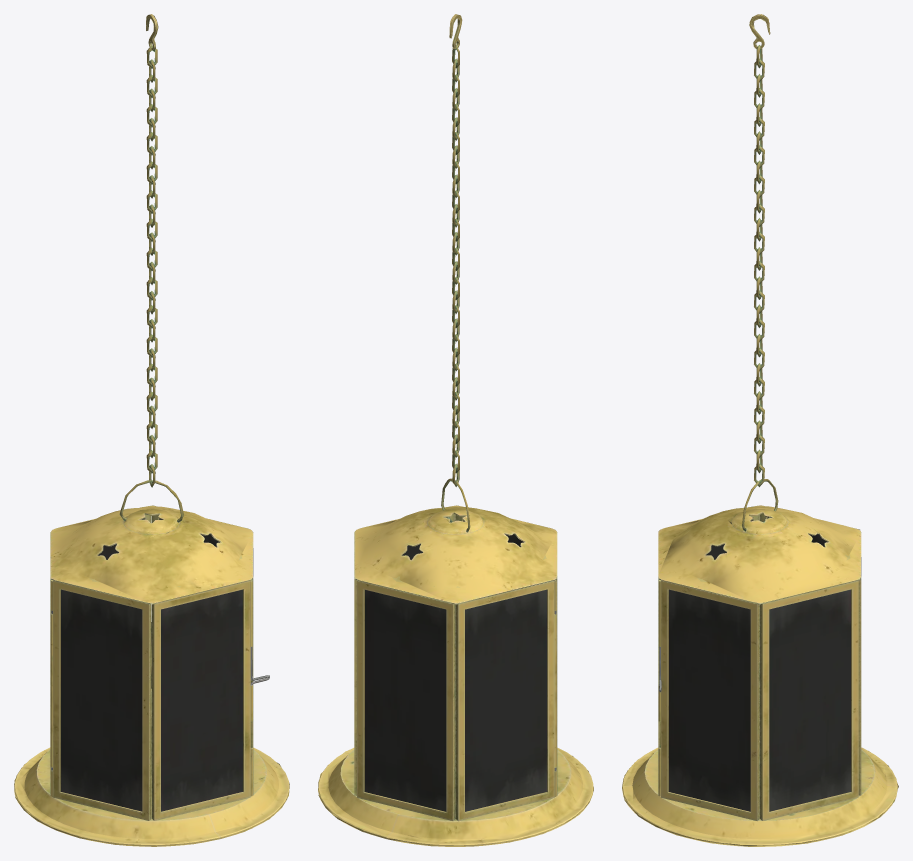
The model's file is ph_brass_diya_lantern_hi.glb.
3 views of the same model, side by side, from view 1: azimuth 30°, elevation 25°; view 2: azimuth 150°, elevation 25°; view 3: azimuth 270°, elevation 25° (orthographic).
Visible parts, largest first — view 1: brass_diya_lantern; view 2: brass_diya_lantern; view 3: brass_diya_lantern.
Part boxes in pixels (x1,y1,x2,y2): brass_diya_lantern: (14, 14, 289, 846); brass_diya_lantern: (318, 14, 593, 846); brass_diya_lantern: (622, 14, 898, 846).
Size of the model in its own units: 0.123 by 0.381 by 0.1235.
Materials: 1 (1 with a texture image).
